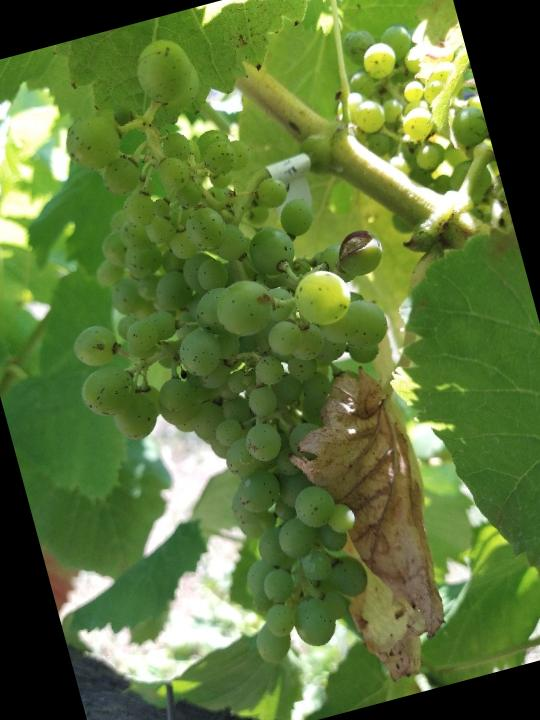grape: (0, 0, 485, 701)
